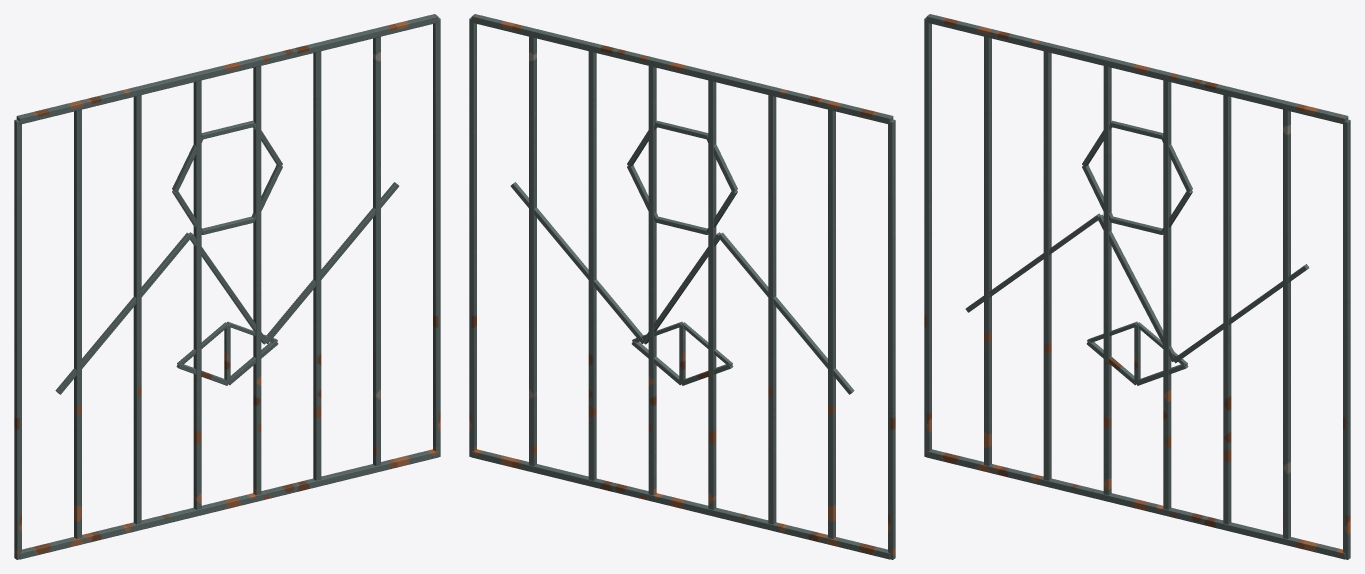
The model's file is SongSatHoa_Bep.glb.
The picture shows the model from 3 angles, left to right: view 1: azimuth 30°, elevation 25°; view 2: azimuth 150°, elevation 25°; view 3: azimuth 330°, elevation 25°; orthographic projection.
Parts seen in each view (by area): view 1: geometry_0; view 2: geometry_0; view 3: geometry_0.
Boxes of the visible parts, x1,y1,x2,y2 form: geometry_0: [14, 14, 440, 559]; geometry_0: [469, 14, 895, 559]; geometry_0: [924, 14, 1350, 559].
Size of the model in its own units: 0.952 by 0.947 by 0.014.
1 material, 1 textured.
